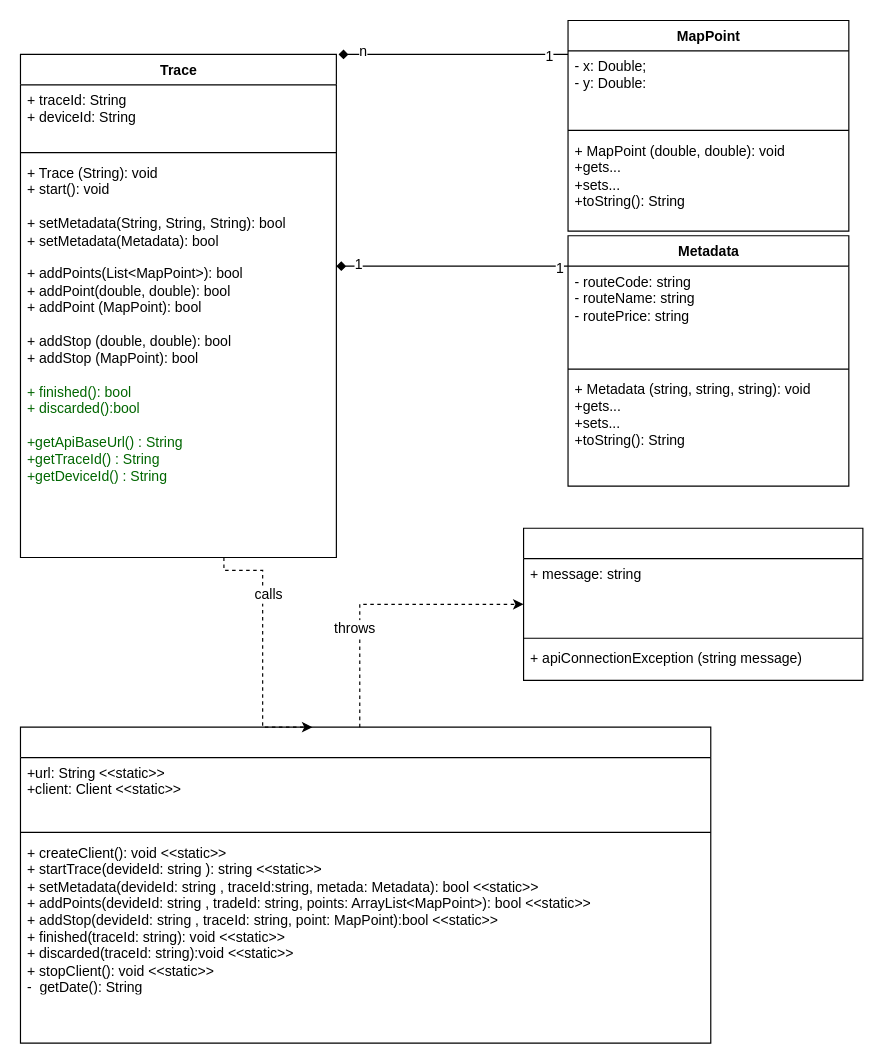
This 883x1064 diagram has some shape labels left out. Here are the shapes that lost their labels. From the top down, the box of each, then its label:
(522, 527, 863, 680): RuntimeException
(19, 726, 711, 1043): ApiConector
